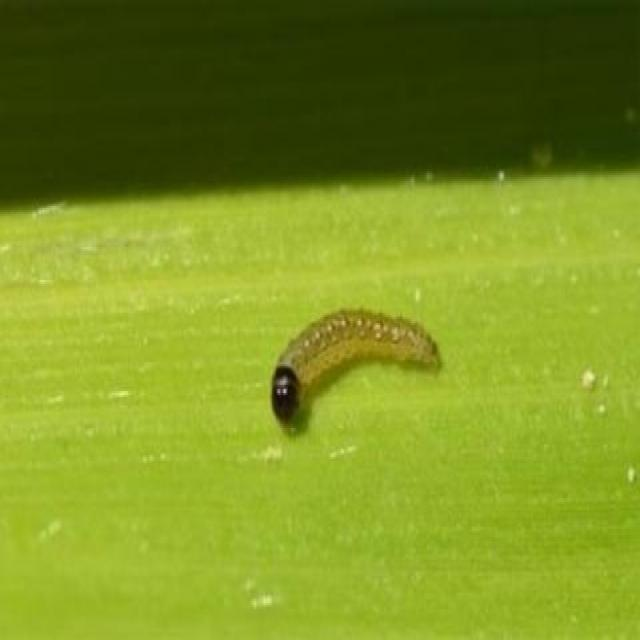cornborer-Larva-: (266, 296, 452, 432)
